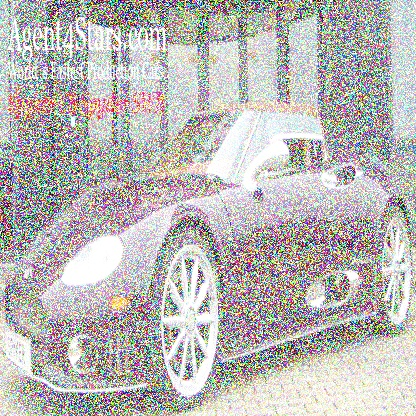Vehicle: (2, 100, 416, 415)
